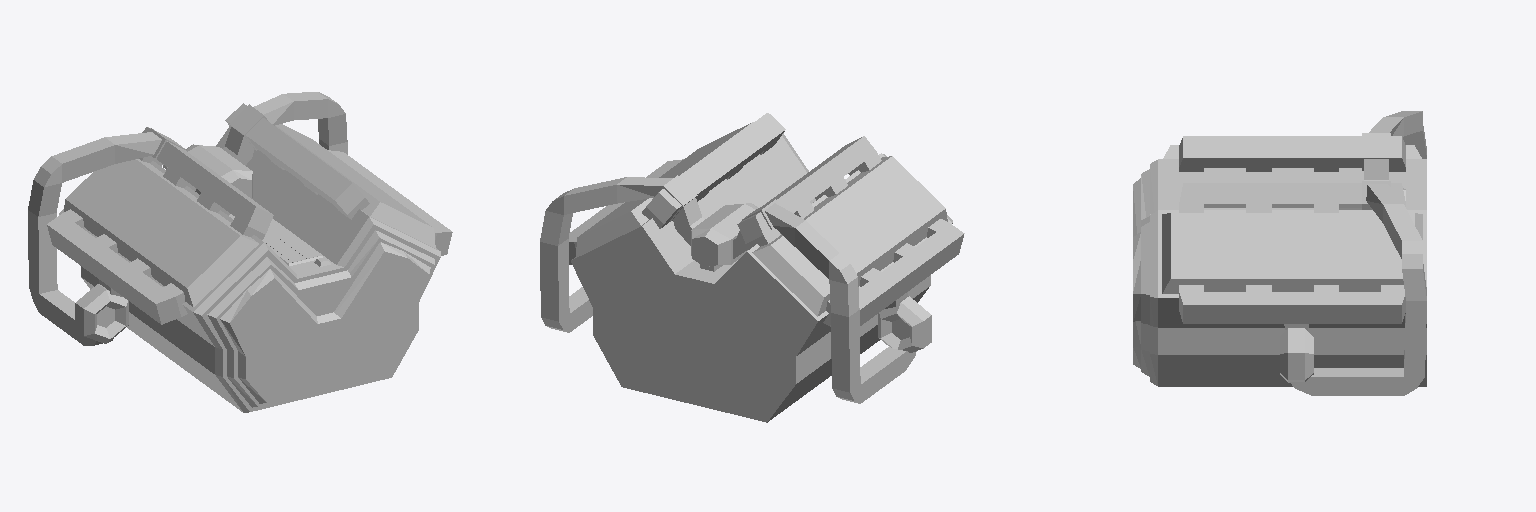
Rendered from v8manual.obj.
The picture shows the model from 3 angles: view 1: azimuth 30°, elevation 25°; view 2: azimuth 150°, elevation 25°; view 3: azimuth 270°, elevation 25°; orthographic projection.
Visible parts, largest first — view 1: end, middle, turbo, start, inject, injectend; view 2: start, middle, turbo, end, inject; view 3: middle, end, turbo, start, inject.
Boxes of the visible parts, box(x1,y1,x2,y2) form: end: box(135, 168, 452, 412); middle: box(68, 118, 429, 386); turbo: box(28, 92, 347, 345); start: box(47, 103, 362, 337); inject: box(163, 127, 253, 191); injectend: box(221, 170, 252, 198); start: box(569, 177, 875, 422); middle: box(580, 128, 943, 397); turbo: box(540, 175, 931, 403); end: box(648, 113, 964, 348); inject: box(673, 198, 748, 271); middle: box(1225, 136, 1359, 386); end: box(1133, 136, 1224, 386); turbo: box(1280, 111, 1426, 395); start: box(1360, 136, 1426, 386); inject: box(1360, 159, 1405, 209).
Bounding box in the file's own units: 1.15 × 0.649 × 0.875.